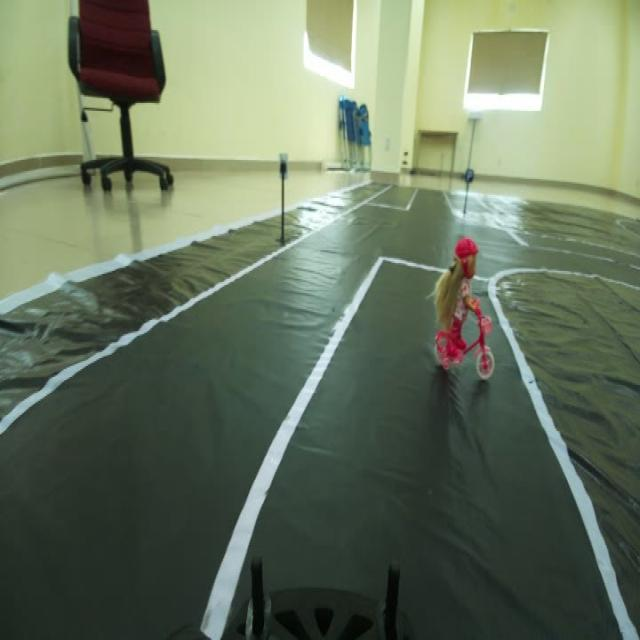pedestrian: (433, 234, 503, 378)
